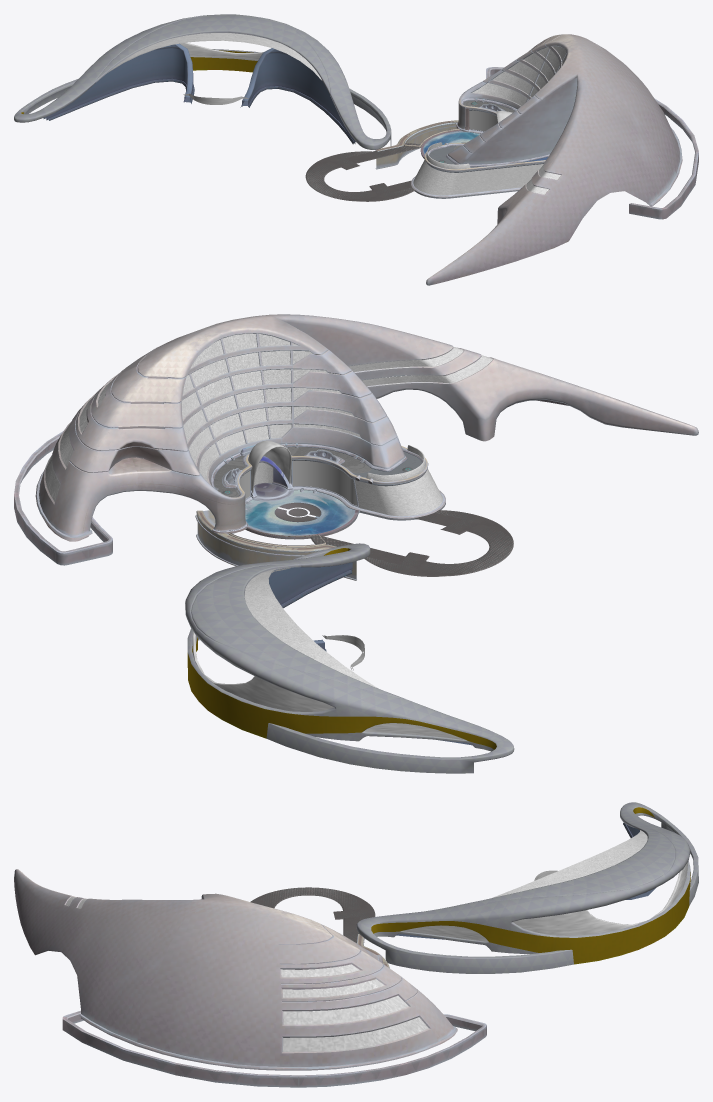
Rendered from pref_sm_beach_bk_winter_pointmol_leftbuild_lv2.fbx.
3 renders of one model, top to bottom at view 1: azimuth 30°, elevation 25°; view 2: azimuth 150°, elevation 25°; view 3: azimuth 270°, elevation 25°, orthographic. The views are drawn at different scales.
Parts seen in each view (by area): view 1: sm_beach_bk_winter_pointmol_leftbuild01a_lv2, sm_beach_bk_winter_pointmol_leftbuild02b_lv2, sm_beach_bk_winter_pointmol_leftbuild02c_lv2, sm_beach_bk_winter_pointmol_leftbuild01b_lv2, sm_beach_winter_pointmol_techborn02_lv2, sm_beach_bk_winter_pointmol_leftbuild02e_lv2, sm_beach_bk_winter_pointmol_leftbuild02f_lv2, sm_beach_bk_winter_pointmol_leftbuild01i_lv2, sm_beach_bk_winter_pointmol_leftbuild01c_lv2; view 2: sm_beach_bk_winter_pointmol_leftbuild01a_lv2, sm_beach_bk_winter_pointmol_leftbuild02b_lv2, sm_beach_bk_winter_pointmol_leftbuild01b_lv2, sm_beach_bk_winter_pointmol_leftbuild02c_lv2, sm_beach_winter_pointmol_techborn02_lv2, sm_beach_bk_winter_pointmol_leftbuild02e_lv2, sm_beach_bk_winter_pointmol_leftbuild02f_lv2, sm_beach_bk_winter_pointmol_leftbuild01i_lv2, sm_beach_bk_winter_pointmol_leftbuild01c_lv2; view 3: sm_beach_bk_winter_pointmol_leftbuild01a_lv2, sm_beach_bk_winter_pointmol_leftbuild02b_lv2, sm_beach_bk_winter_pointmol_leftbuild02c_lv2, sm_beach_bk_winter_pointmol_leftbuild01b_lv2, sm_beach_bk_winter_pointmol_leftbuild02e_lv2, sm_beach_winter_pointmol_techborn02_lv2.
Part boxes in pixels (<box>): sm_beach_bk_winter_pointmol_leftbuild01a_lv2: <box>411,34,698,285</box>; sm_beach_bk_winter_pointmol_leftbuild02b_lv2: <box>14,14,391,149</box>; sm_beach_bk_winter_pointmol_leftbuild02c_lv2: <box>21,43,355,144</box>; sm_beach_bk_winter_pointmol_leftbuild01b_lv2: <box>413,46,566,195</box>; sm_beach_winter_pointmol_techborn02_lv2: <box>305,100,514,201</box>; sm_beach_bk_winter_pointmol_leftbuild02e_lv2: <box>108,33,321,104</box>; sm_beach_bk_winter_pointmol_leftbuild02f_lv2: <box>375,120,459,169</box>; sm_beach_bk_winter_pointmol_leftbuild01i_lv2: <box>423,131,479,154</box>; sm_beach_bk_winter_pointmol_leftbuild01c_lv2: <box>469,110,497,131</box>; sm_beach_bk_winter_pointmol_leftbuild01a_lv2: <box>14,314,698,565</box>; sm_beach_bk_winter_pointmol_leftbuild02b_lv2: <box>185,543,514,773</box>; sm_beach_bk_winter_pointmol_leftbuild01b_lv2: <box>45,333,492,516</box>; sm_beach_bk_winter_pointmol_leftbuild02c_lv2: <box>187,548,496,749</box>; sm_beach_winter_pointmol_techborn02_lv2: <box>214,447,513,576</box>; sm_beach_bk_winter_pointmol_leftbuild02e_lv2: <box>192,567,466,740</box>; sm_beach_bk_winter_pointmol_leftbuild02f_lv2: <box>195,510,356,580</box>; sm_beach_bk_winter_pointmol_leftbuild01i_lv2: <box>245,490,355,535</box>; sm_beach_bk_winter_pointmol_leftbuild01c_lv2: <box>239,460,357,505</box>; sm_beach_bk_winter_pointmol_leftbuild01a_lv2: <box>14,869,486,1087</box>; sm_beach_bk_winter_pointmol_leftbuild02b_lv2: <box>356,802,698,973</box>; sm_beach_bk_winter_pointmol_leftbuild02c_lv2: <box>371,807,690,964</box>; sm_beach_bk_winter_pointmol_leftbuild01b_lv2: <box>65,897,428,1051</box>; sm_beach_bk_winter_pointmol_leftbuild02e_lv2: <box>402,830,687,941</box>; sm_beach_winter_pointmol_techborn02_lv2: <box>250,887,375,942</box>.
Bounding box in the file's own units: 85.69 × 19.35 × 90.35.
